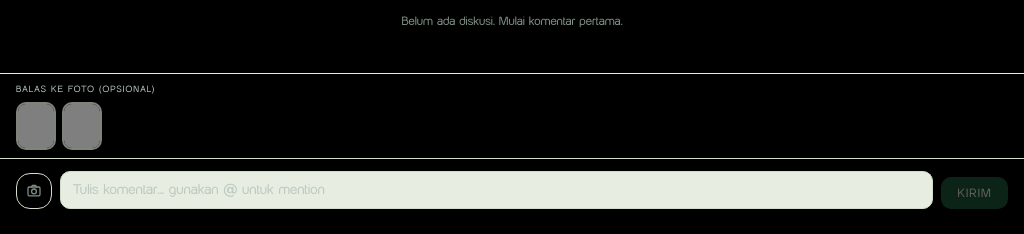
CommentThread — mention autocomplete › dropdown selalu menawarkan 'All' utk mention semua orang (permintaan Denny 2026-09: @all)
Type "cc @al" into the text box with placeholder "Tulis komentar... gunakan @ untuk mention" at (497, 190), box [60,170,933,208]
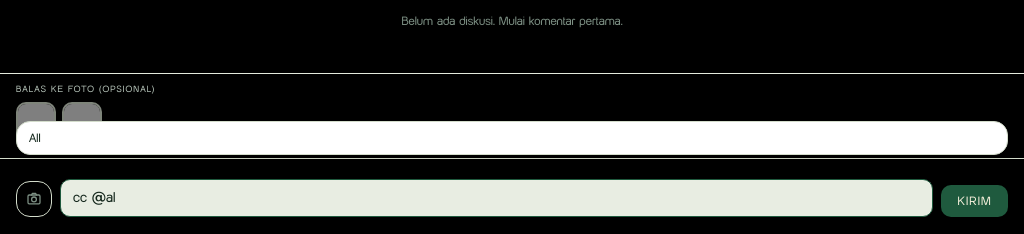
Expected: the button "All" is shown, [17,122,1007,154]
